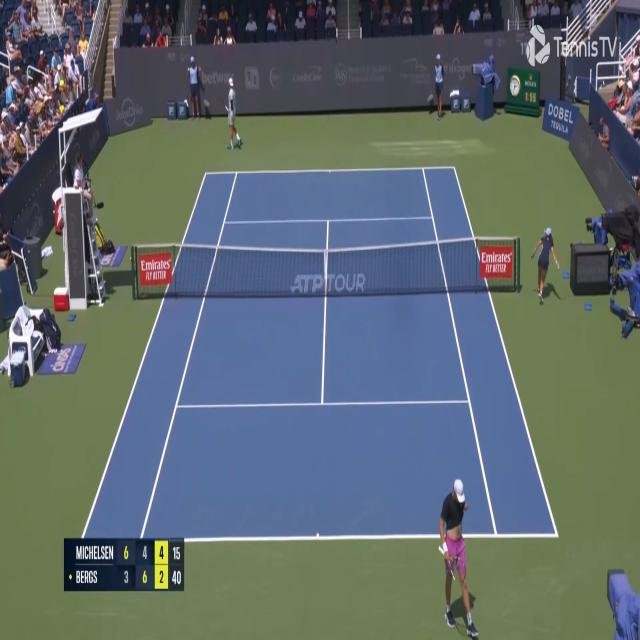tennis-player: (436, 476, 478, 640), (224, 77, 242, 151)
